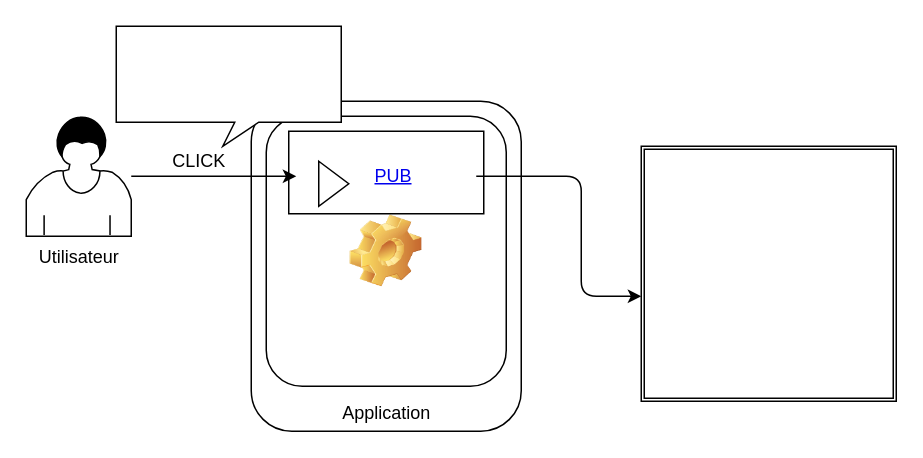
Image size: 923x458. Some labels were removed from this diagram. Here are the shapes that lost their labels. From the top down, the centre of each, then its label:
point (228, 85): Pour chaque click, la plateforme publicitaire nous verse une certaine somme
point (768, 273): Site de l'annonceur
